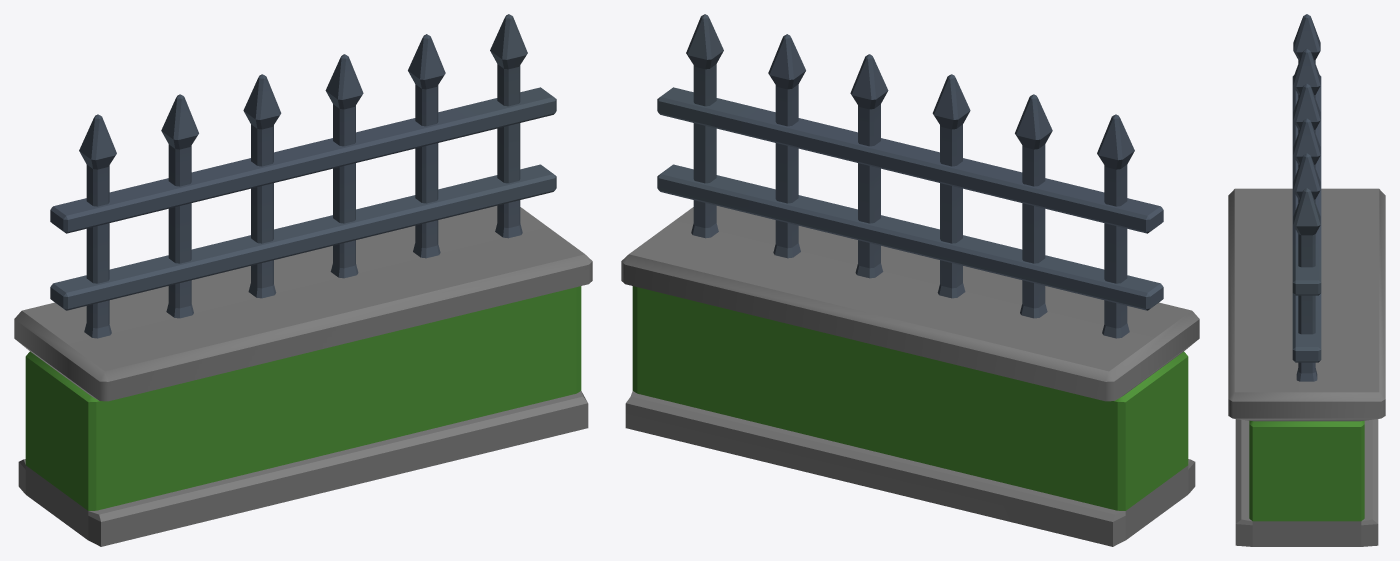
The model's file is BrickWall_4_2.fbx.
3 views of the same model, side by side, from view 1: azimuth 30°, elevation 25°; view 2: azimuth 150°, elevation 25°; view 3: azimuth 270°, elevation 25° (orthographic). The views are drawn at different scales.
Parts seen in each view (by area): view 1: BrickWall_4_2; view 2: BrickWall_4_2; view 3: BrickWall_4_2.
Boxes of the visible parts, x1,y1,x2,y2 form: BrickWall_4_2: (14,14,592,546); BrickWall_4_2: (621,14,1199,546); BrickWall_4_2: (1228,14,1385,546).
Size of the model in its own units: 200 by 152 by 63.57.
